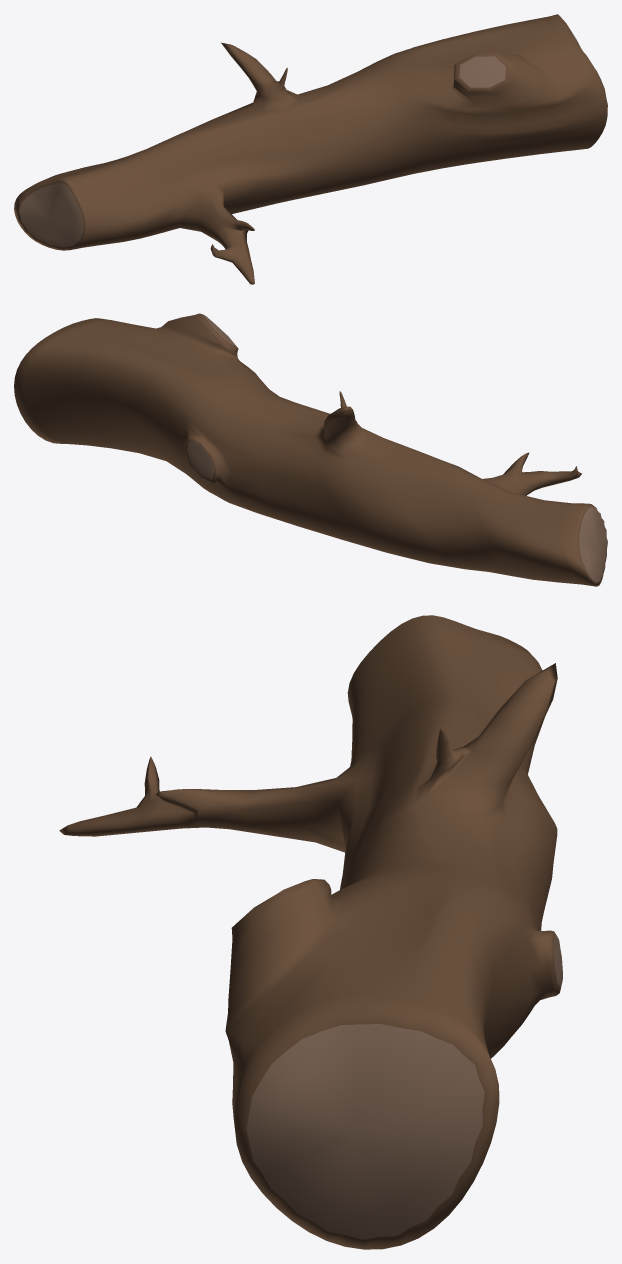
The model's file is dead tree.fbx.
The picture shows the model from 3 angles, top to bottom: view 1: azimuth 30°, elevation 25°; view 2: azimuth 150°, elevation 25°; view 3: azimuth 270°, elevation 25°; orthographic projection. The views are drawn at different scales.
Parts seen in each view (by area): view 1: dead_tree_mesh; view 2: dead_tree_mesh; view 3: dead_tree_mesh.
Boxes of the visible parts, x1,y1,x2,y2 form: dead_tree_mesh: [14, 14, 607, 284]; dead_tree_mesh: [14, 313, 607, 586]; dead_tree_mesh: [59, 615, 562, 1249].
Size of the model in its own units: 3.05 by 0.7764 by 1.22.
